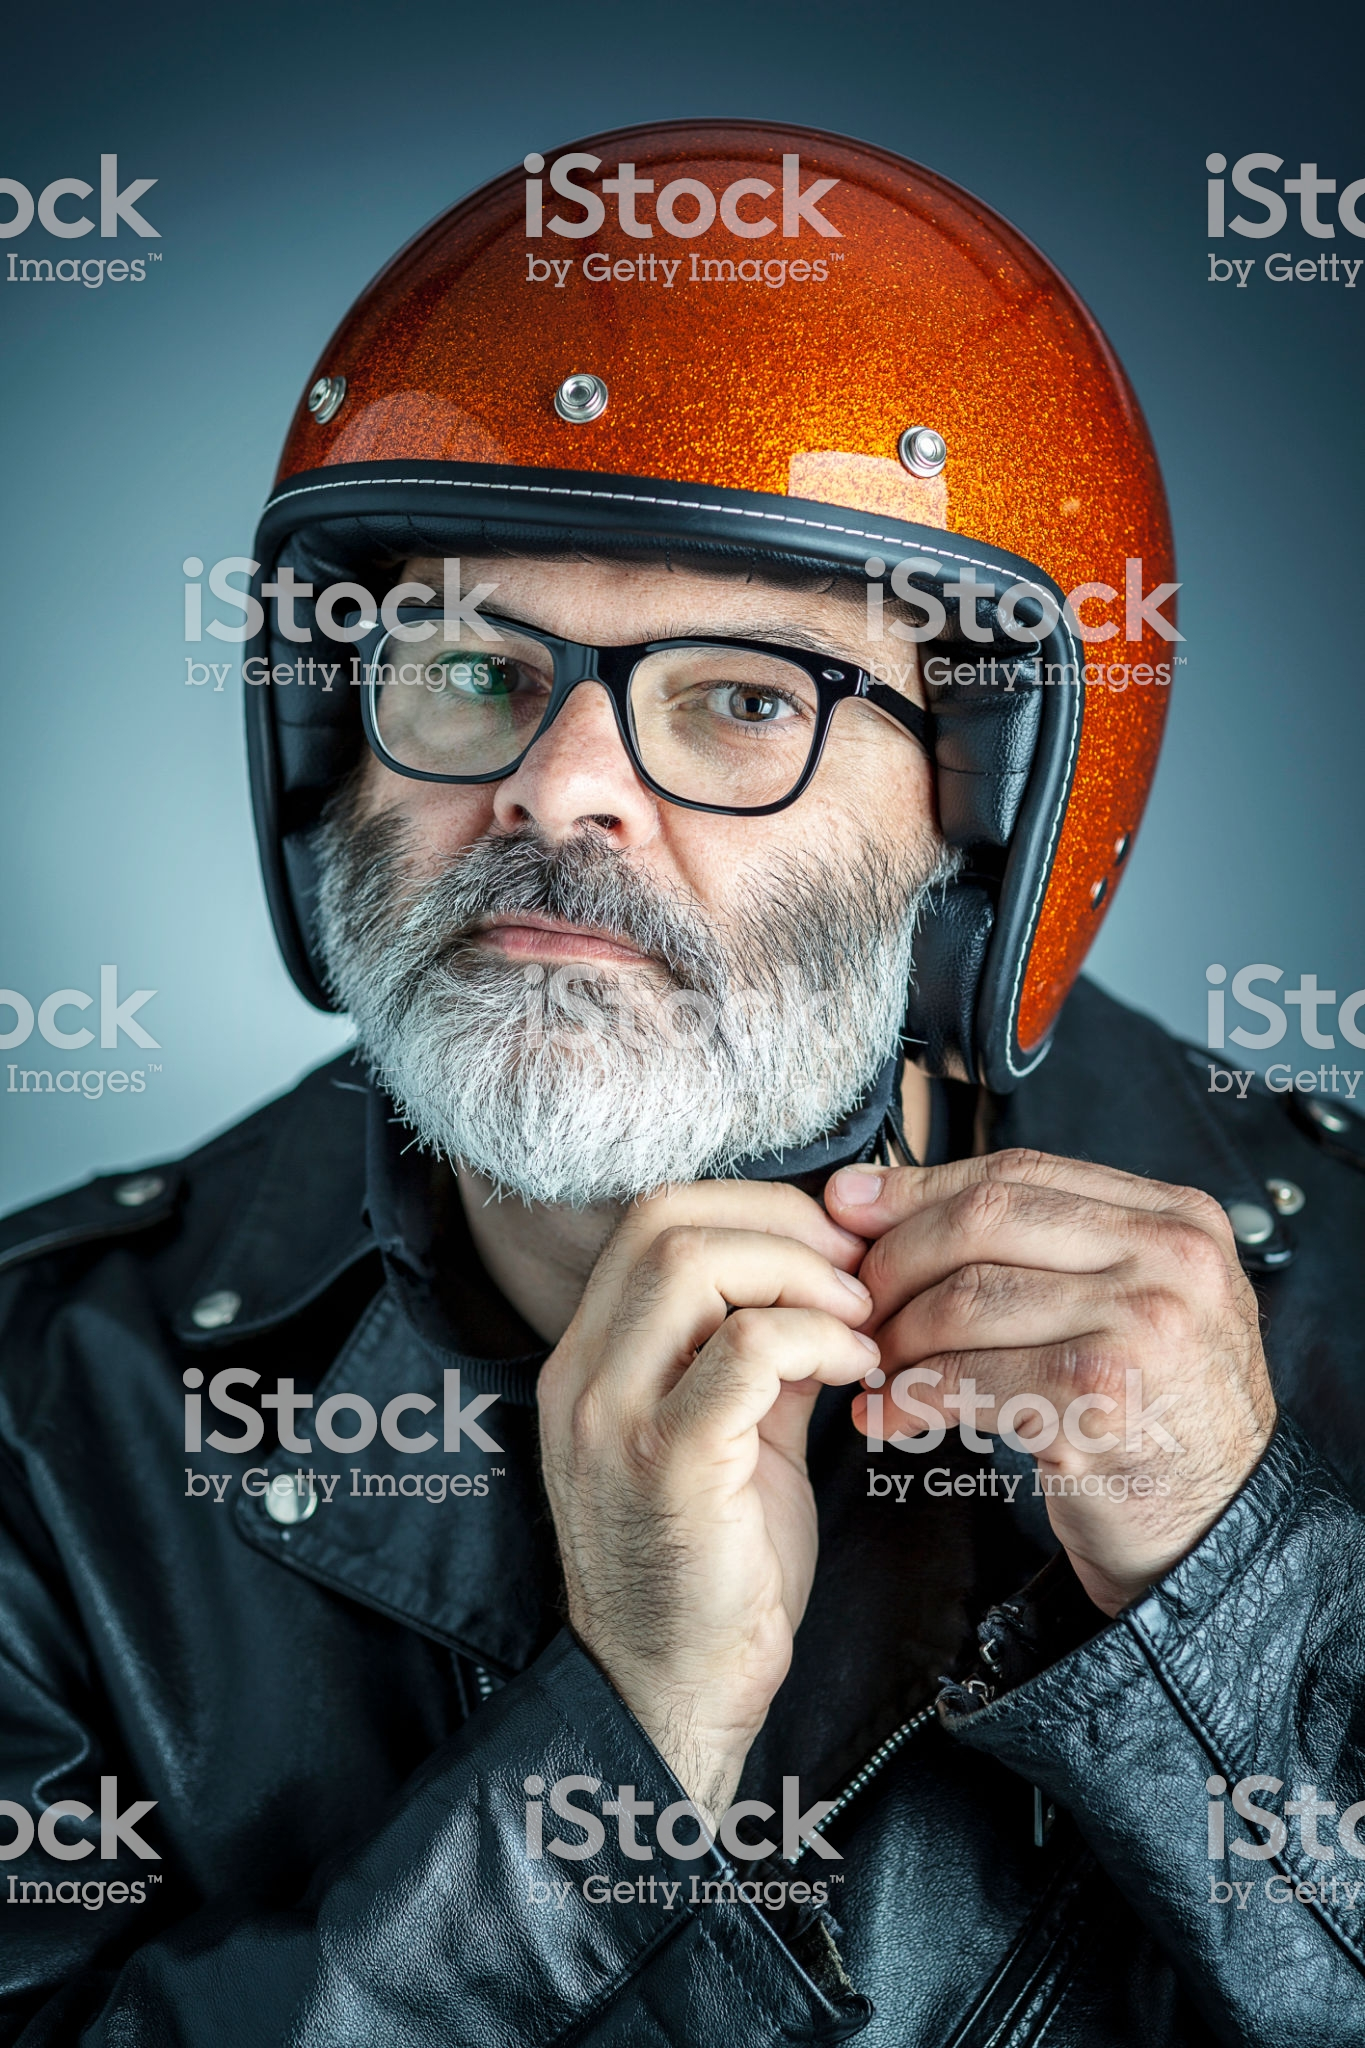helmet: (245, 152, 1254, 959)
